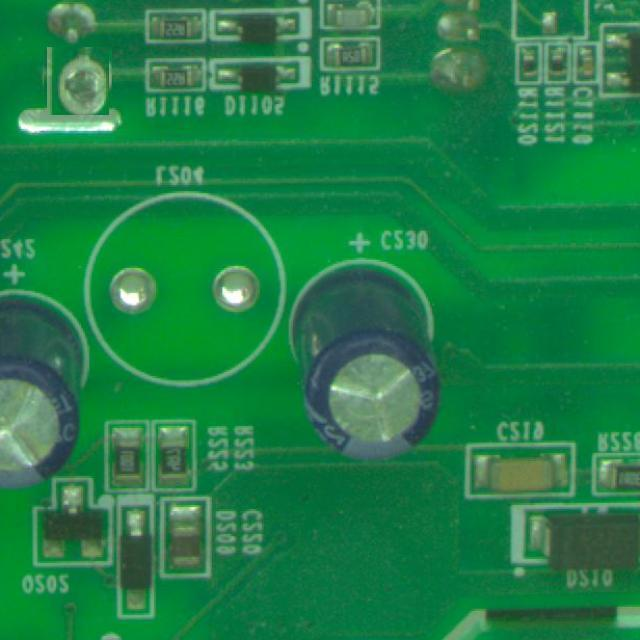lack_of_part: (45, 49, 111, 114)
